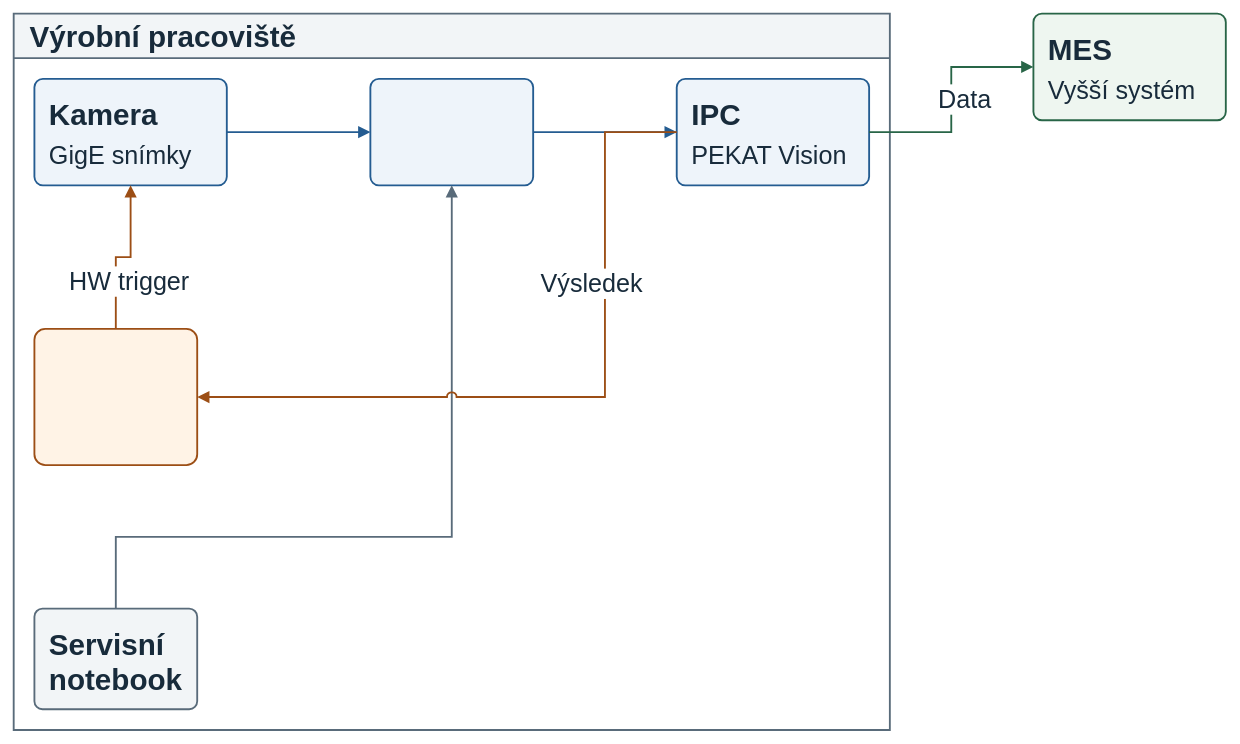
This 1240x744 diagram has some shape labels left out. Each missing label, with the centre of its shape:
"PLC Trigger a výsledek" goes at point 115,397.
"Switch Ethernet" goes at point 451,132.
